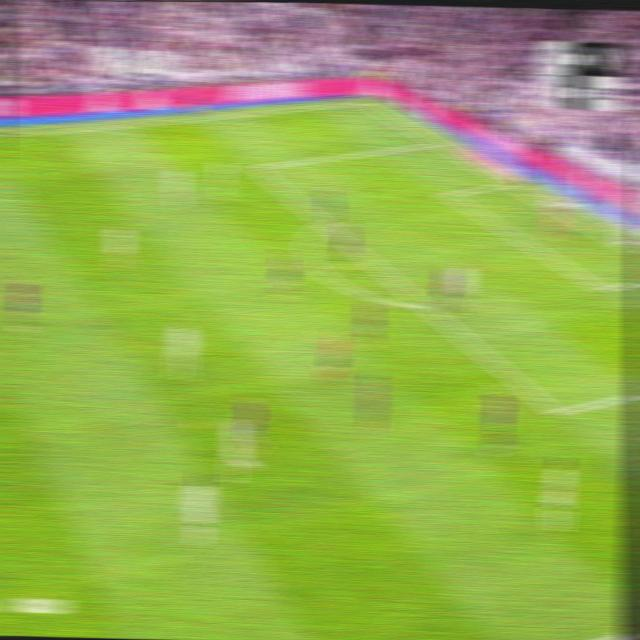bigarea_bottom_inner: (546, 399, 564, 422)
bigarea_top_inner: (249, 159, 264, 175)
bigarea_top_outter: (425, 134, 442, 148)
bottom_arc_area_intersection: (415, 298, 433, 314)
corner: (354, 95, 371, 104)
smallarea_bottom_inner: (594, 278, 611, 299)
smallarea_top_inner: (442, 188, 456, 200)
top_arc_area_intersection: (315, 214, 331, 229)
